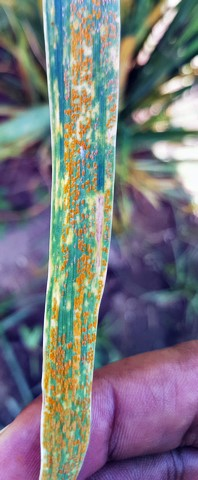Leaf Rust: (35, 4, 123, 480)
